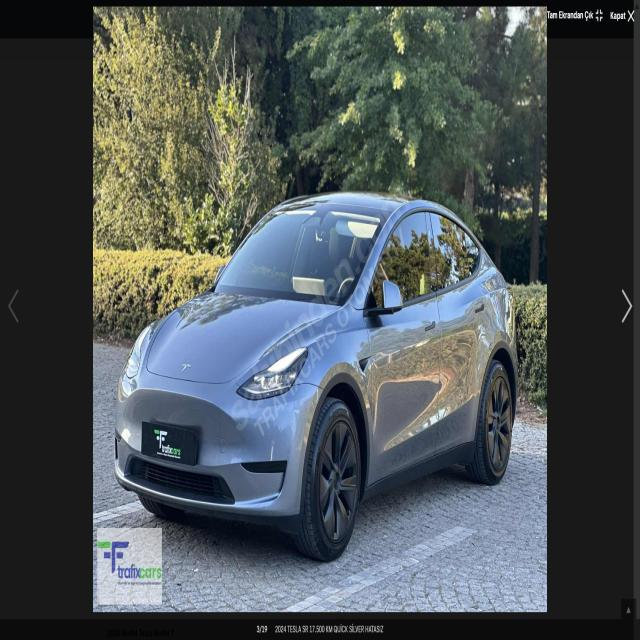tesla: (176, 352, 192, 383)
